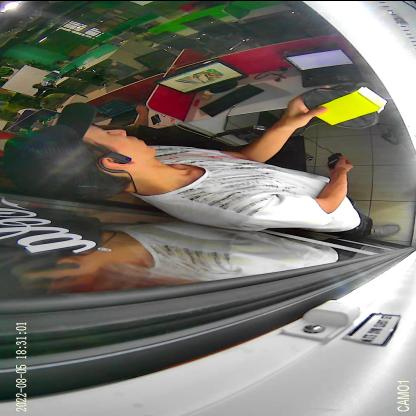yellow: (301, 82, 388, 128)
